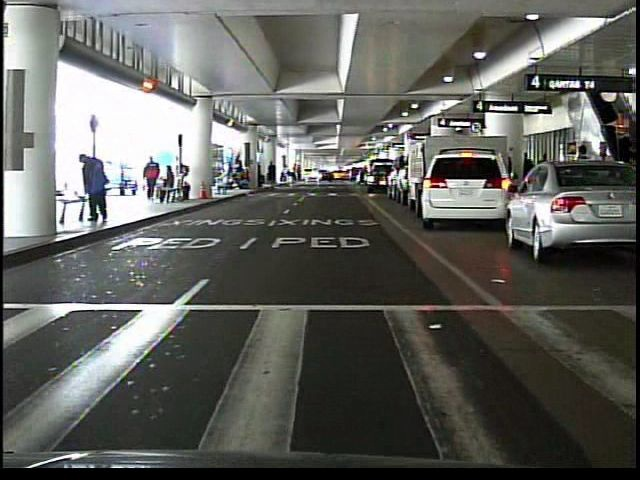person: (76, 150, 112, 226), (605, 107, 632, 161), (215, 167, 232, 202), (284, 163, 299, 192)
